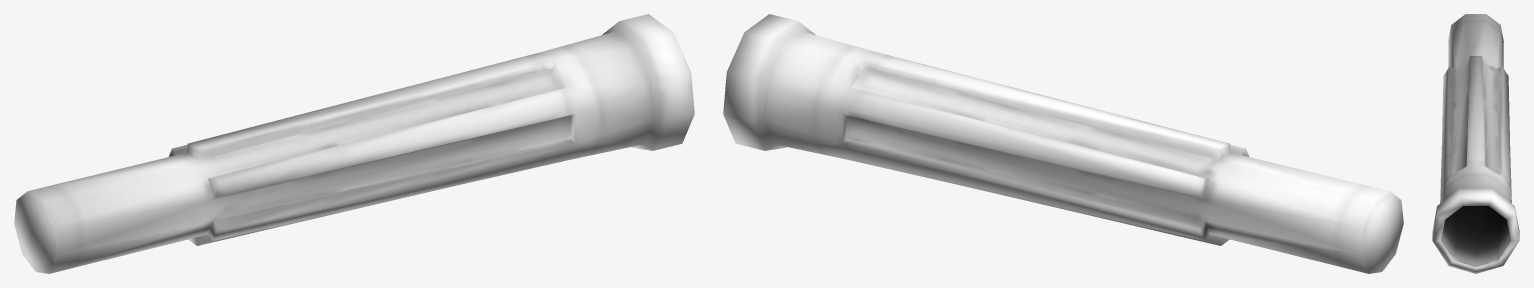
Rendered from syringeCap.fbx.
3 views of the same model, side by side, from view 1: azimuth 30°, elevation 25°; view 2: azimuth 150°, elevation 25°; view 3: azimuth 270°, elevation 25° (orthographic). The views are drawn at different scales.
Visible parts, largest first — view 1: syringeCap; view 2: syringeCap; view 3: syringeCap.
Boxes of the visible parts, x1=… form: syringeCap: x1=14, y1=14, x2=694, y2=273; syringeCap: x1=723, y1=14, x2=1403, y2=273; syringeCap: x1=1432, y1=14, x2=1519, y2=273.
Size of the model in its own units: 0.2989 by 0.0531 by 0.0552.
